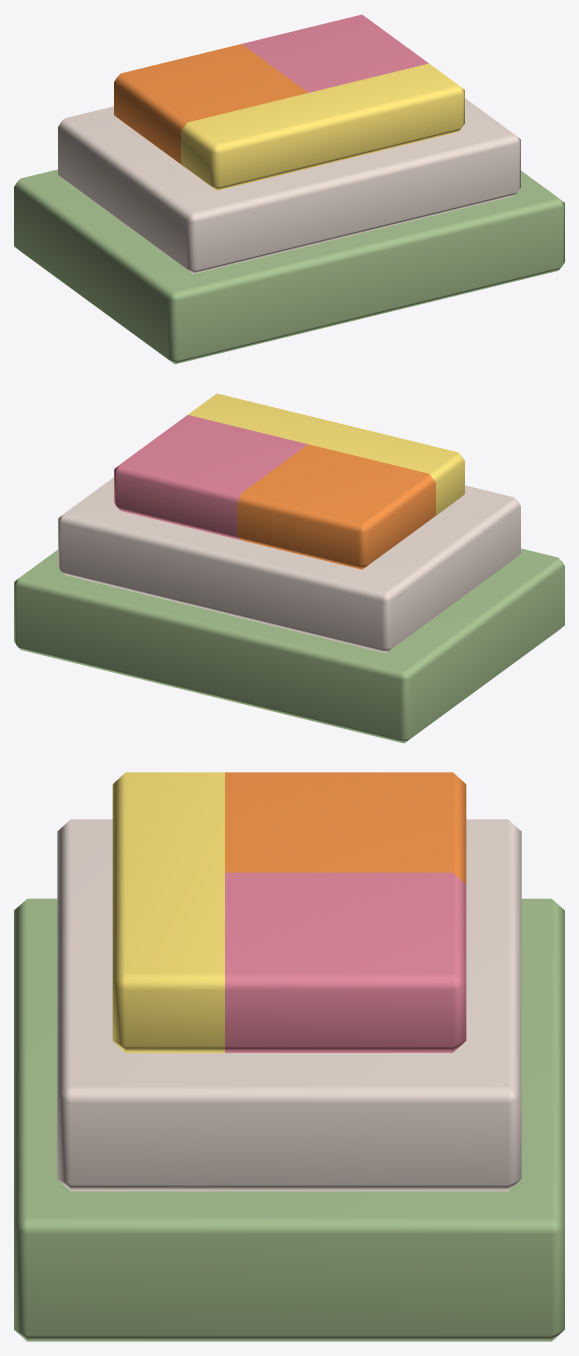
Rendered from Towels_1.glb.
3 views of the same model, one above another, from view 1: azimuth 30°, elevation 25°; view 2: azimuth 150°, elevation 25°; view 3: azimuth 270°, elevation 25° (orthographic). The views are drawn at different scales.
Visible parts, largest first — view 1: Towels_1; view 2: Towels_1; view 3: Towels_1.
Boxes of the visible parts, bbox=[...] form: Towels_1: bbox=[14, 14, 564, 364]; Towels_1: bbox=[14, 393, 564, 743]; Towels_1: bbox=[14, 772, 564, 1341].
Bounding box in the file's own units: 0.5666 × 0.2486 × 0.4003.
1 material, 1 textured.
